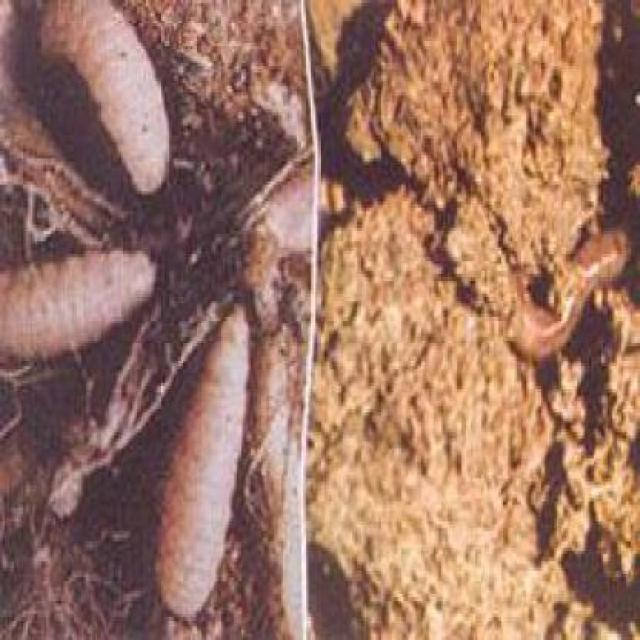whorl-maggot: (151, 290, 265, 625), (30, 2, 190, 190), (2, 246, 171, 358)
